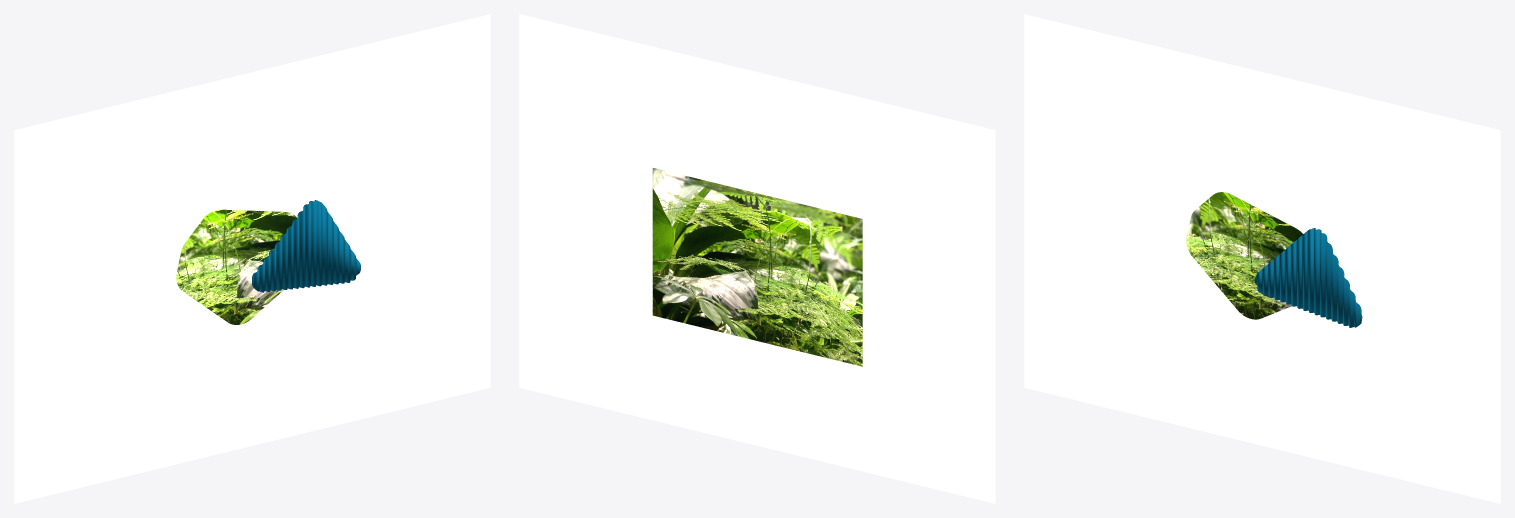
The model's file is storey3.gltf.
3 views of the same model, side by side, from view 1: azimuth 30°, elevation 25°; view 2: azimuth 150°, elevation 25°; view 3: azimuth 330°, elevation 25° (orthographic).
Parts seen in each view (by area): view 1: Plane, Image, Triangle; view 2: Plane, Image; view 3: Plane, Image, Triangle.
Part boxes in pixels (x1,y1,x2,y2): Plane: [14, 14, 490, 503]; Image: [176, 209, 296, 324]; Triangle: [252, 200, 360, 292]; Plane: [519, 14, 995, 503]; Image: [652, 168, 862, 366]; Plane: [1024, 14, 1500, 503]; Image: [1186, 192, 1303, 319]; Triangle: [1254, 228, 1362, 327].
Bounding box in the file's own units: 0.4431 × 0.332 × 0.0196.
